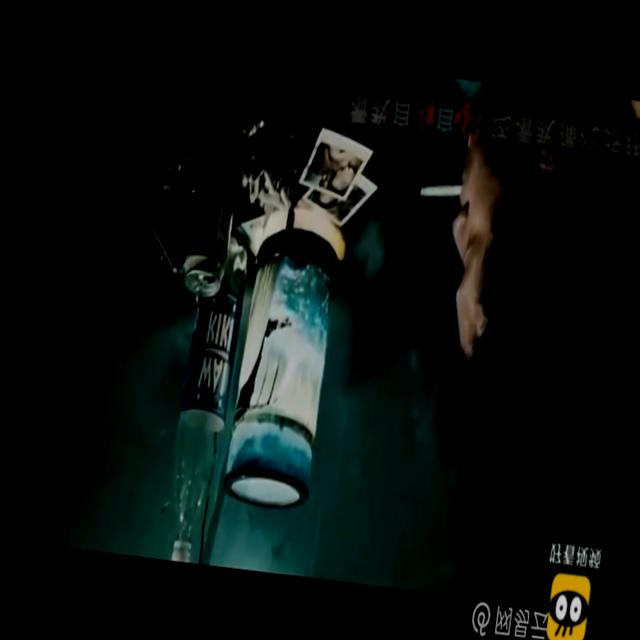smoke: (417, 172, 467, 208)
